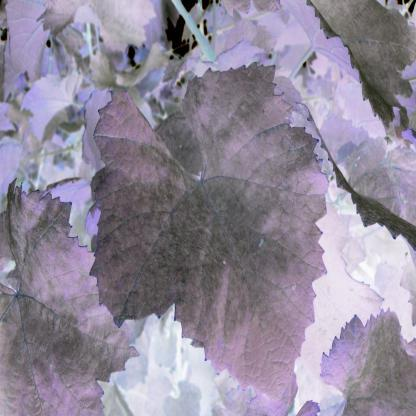Squash Powdery mildew leaf: (89, 63, 331, 404)
